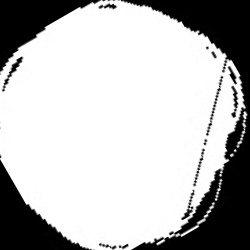spot: (3, 1, 245, 248)
